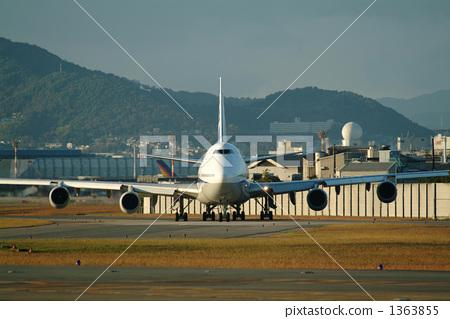airplane: (4, 72, 417, 223)
